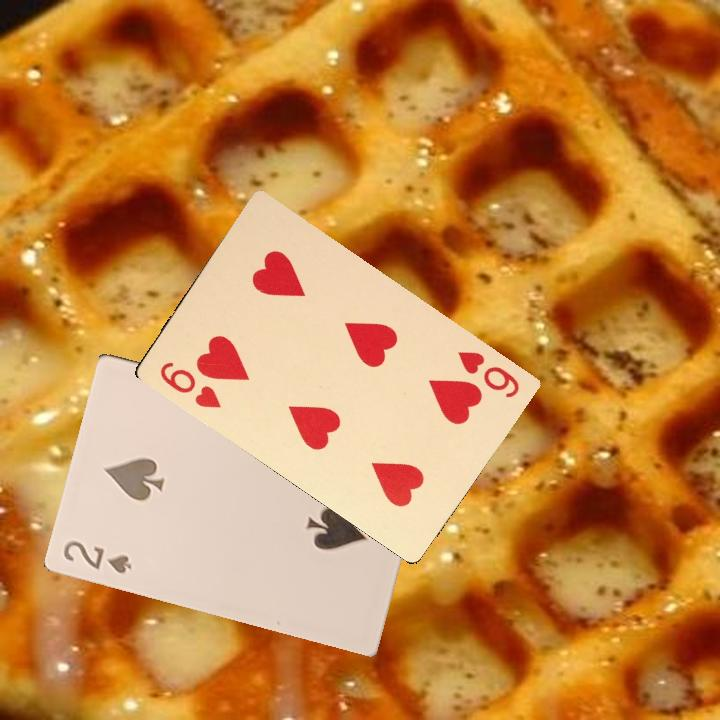2s: (59, 536, 134, 576)
6h: (453, 347, 522, 401), (155, 357, 223, 411)
